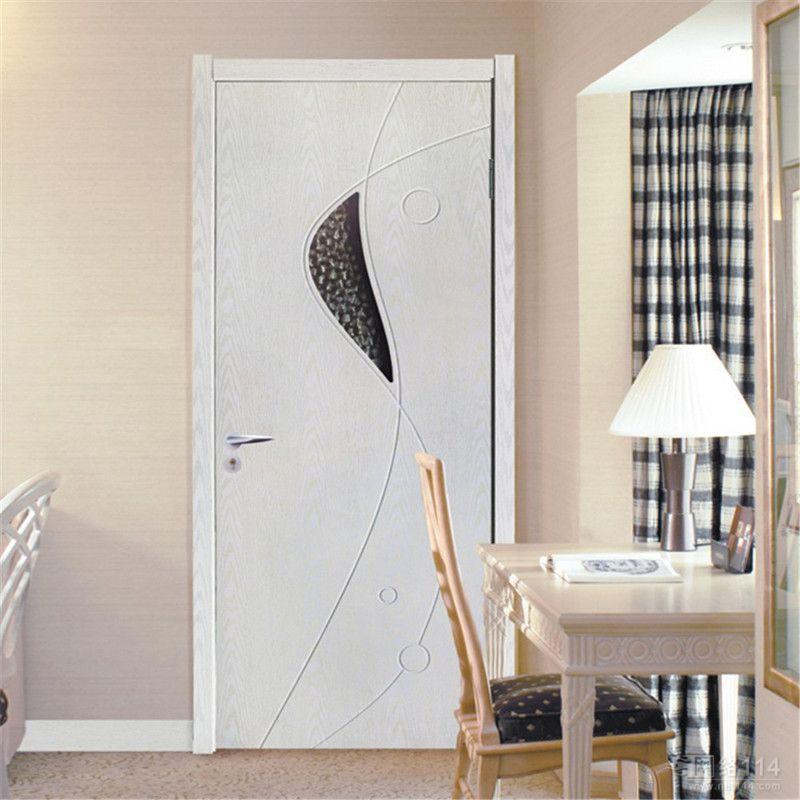door: (215, 75, 493, 750)
